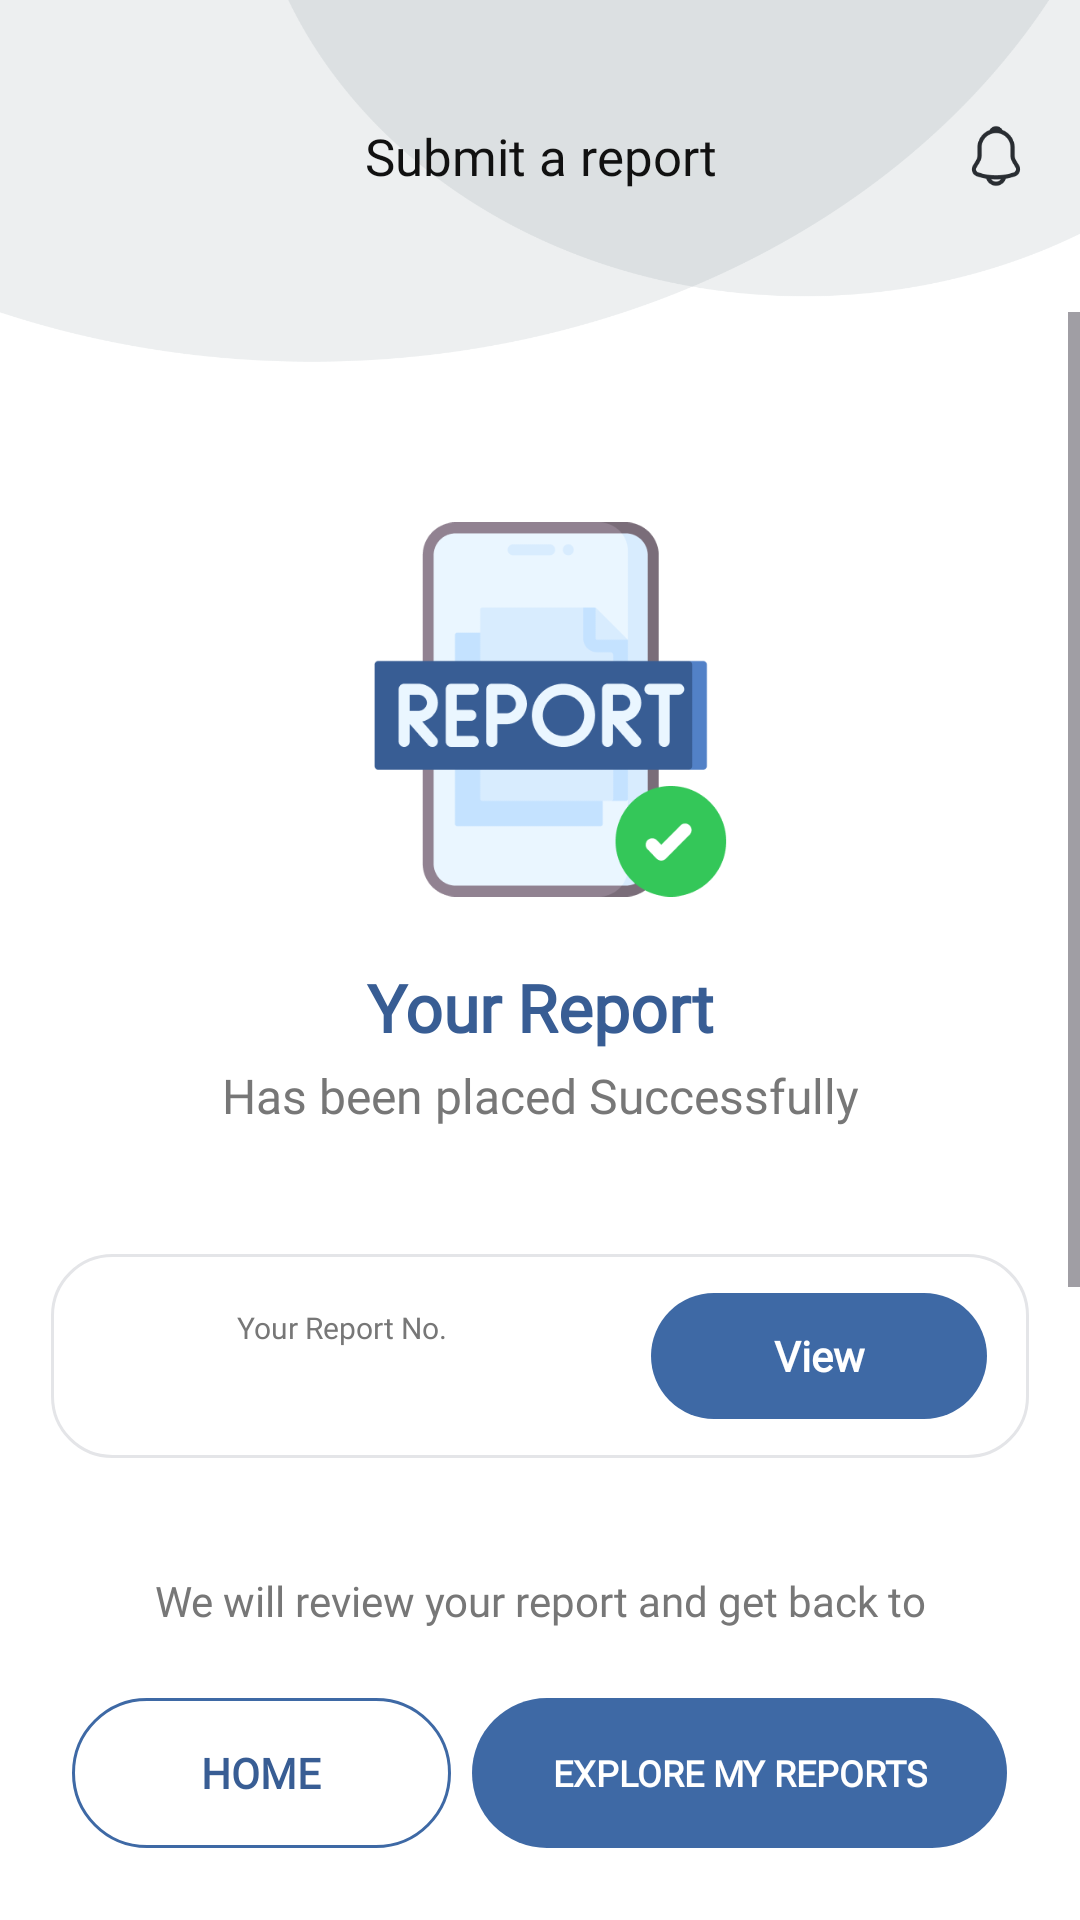

Where to tap for icons on this 1080x1920 app screen, as (x,y):
Notifications: (996,156)
